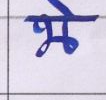e_matra: (47, 0, 78, 16)
